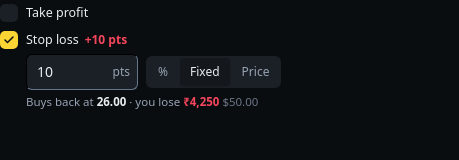
Test case: Price: the level itself › [critical] entry 16, stop typed as 70: shows 70, and that it is 54 points (+337.5%) over
The image size is (459, 160).
Click the radio button labelled "Price". click: (256, 72)
box: left=232, top=58, right=279, bottom=86
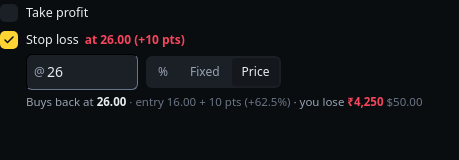
expect the field named "stop price" holds "26": met
Replace the text in the field named "stop price" with "70". click: (82, 72)
box: left=26, top=54, right=138, bottom=90
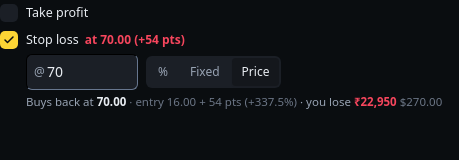
expect the text "at 70.00 (+54 pts)" is shown: met, box left=85, top=31, right=185, bottom=49
expect the text "· entry 16.00 + 54 pts (+337.5%)" is shown: met, box left=126, top=94, right=297, bottom=108
